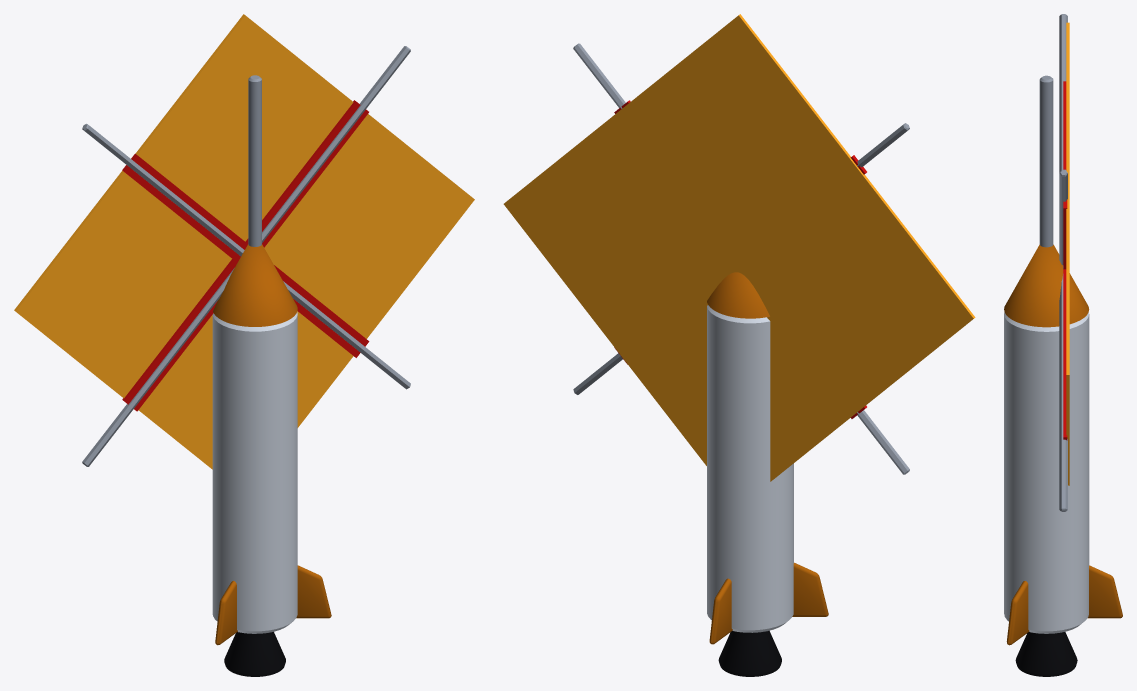
Rendered from Rocket_28_SolarSail.obj.
3 renders of one model, left to right at view 1: azimuth 30°, elevation 25°; view 2: azimuth 150°, elevation 25°; view 3: azimuth 270°, elevation 25°, orthographic. The views are drawn at different scales.
Visible parts, largest first — view 1: R28_Sail, R28_Body, R28_Nose, R28_SailStripe_2, R28_SailStripe, R28_Mast, R28_Nozzle, R28_Boom, R28_Boom_3, R28_Boom_2, R28_Fin_3, R28_Boom_4 (+1 smaller); view 2: R28_Sail, R28_Body, R28_Nozzle, R28_Nose, R28_Fin_2, R28_Fin, R28_Boom_3, R28_Boom; view 3: R28_Body, R28_Nose, R28_Mast, R28_Nozzle, R28_Sail, R28_Boom_4, R28_Fin, R28_SailStripe, R28_Fin_3, R28_Boom_2, R28_Boom, R28_SailStripe_2.
Part boxes in pixels (x1,y1,x2,y2): R28_Sail: (14,14,474,469); R28_Body: (212,312,297,633); R28_Nose: (213,244,297,326); R28_SailStripe_2: (122,100,368,411); R28_SailStripe: (122,153,369,357); R28_Mast: (248,75,261,246); R28_Nozzle: (224,632,285,676); R28_Boom: (262,46,410,242); R28_Boom_3: (82,268,234,466); R28_Boom_2: (82,123,244,256); R28_Fin_3: (296,565,331,618); R28_Boom_4: (283,281,410,389); R28_Sail: (503,14,975,481); R28_Body: (707,305,793,632); R28_Nozzle: (718,630,781,676); R28_Nose: (707,272,769,318); R28_Fin_2: (792,562,828,616); R28_Fin: (709,578,732,644); R28_Boom_3: (857,410,909,474); R28_Boom: (573,43,625,108); R28_Body: (1004,312,1089,633); R28_Nose: (1004,244,1089,327); R28_Mast: (1039,75,1053,247); R28_Nozzle: (1015,632,1077,676); R28_Sail: (1066,22,1069,485); R28_Boom_4: (1059,265,1067,511); R28_Fin: (1088,565,1122,618); R28_SailStripe: (1063,81,1067,440); R28_Fin_3: (1006,581,1029,645); R28_Boom_2: (1059,14,1067,172); R28_Boom: (1059,169,1067,264); R28_SailStripe_2: (1063,199,1067,269).
Bounding box in the file's own units: 6.22 × 8.31 × 1.4.
